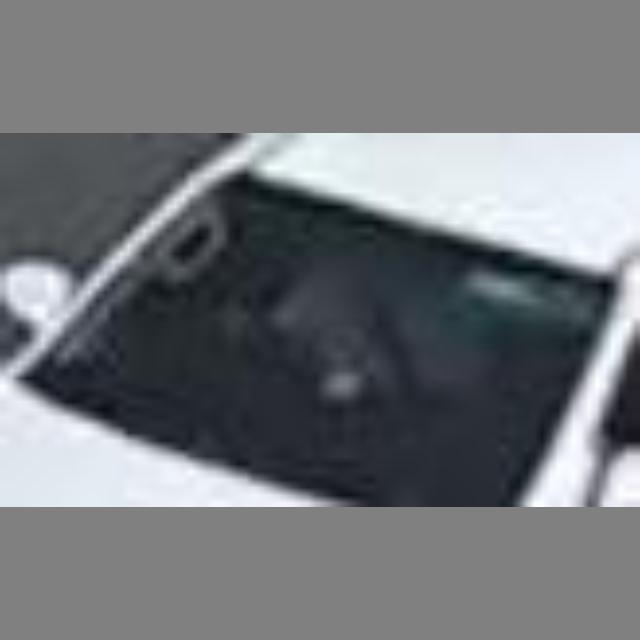pakai: (226, 211, 492, 445)
